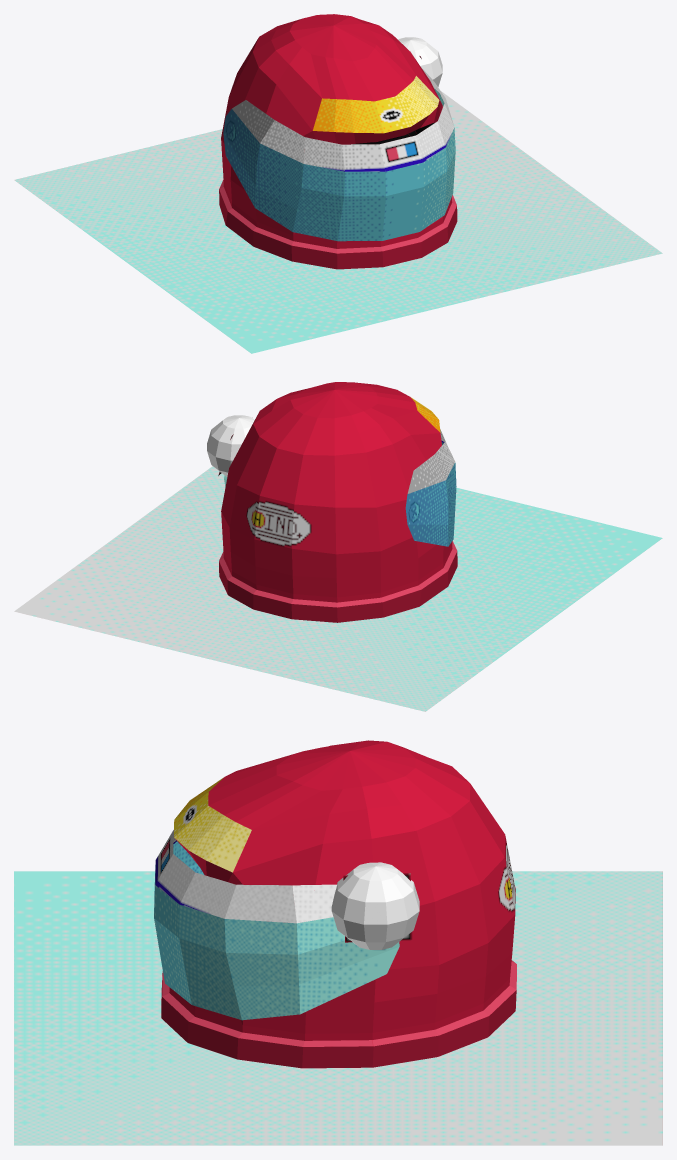
The model's file is Helmet FBX.fbx.
3 renders of one model, top to bottom at view 1: azimuth 30°, elevation 25°; view 2: azimuth 150°, elevation 25°; view 3: azimuth 270°, elevation 25°, orthographic. The views are drawn at different scales.
Visible parts, largest first — view 1: plane_1, sphere, sphere_1; view 2: plane_1, sphere, sphere_1; view 3: plane_1, sphere, sphere_1.
Boxes of the visible parts, x1,y1,x2,y2 form: plane_1: [14, 91, 662, 353]; sphere: [219, 14, 457, 269]; sphere_1: [398, 37, 442, 86]; plane_1: [14, 466, 662, 711]; sphere: [219, 382, 457, 622]; sphere_1: [207, 415, 254, 476]; plane_1: [14, 871, 662, 1145]; sphere: [154, 740, 516, 1068]; sphere_1: [331, 862, 419, 949].
Bounding box in the file's own units: 200 × 87.42 × 200.
Materials: 1 (1 with a texture image).
